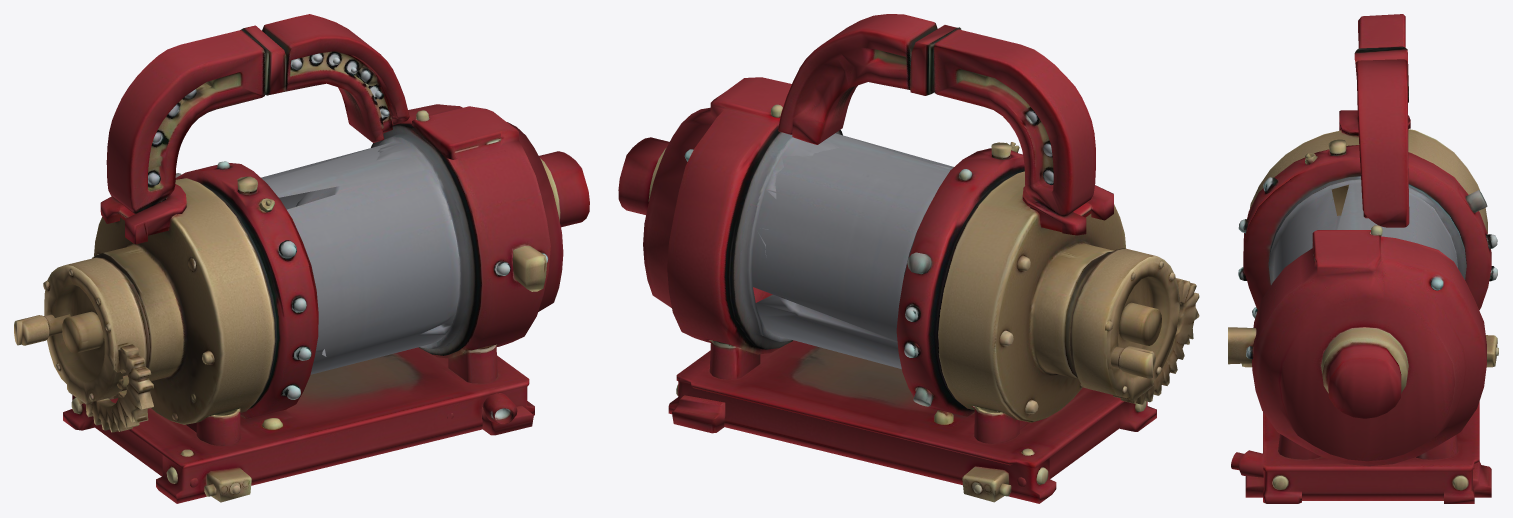
Rendered from magnet-drum.glb.
The picture shows the model from 3 angles, left to right: view 1: azimuth 30°, elevation 25°; view 2: azimuth 150°, elevation 25°; view 3: azimuth 270°, elevation 25°; orthographic projection. The views are drawn at different scales.
Parts seen in each view (by area): view 1: tripo_node_feec837e-4249-4981-b13f-64befcf70d95; view 2: tripo_node_feec837e-4249-4981-b13f-64befcf70d95; view 3: tripo_node_feec837e-4249-4981-b13f-64befcf70d95.
Boxes of the visible parts, x1=… form: tripo_node_feec837e-4249-4981-b13f-64befcf70d95: x1=14, y1=14, x2=589, y2=503; tripo_node_feec837e-4249-4981-b13f-64befcf70d95: x1=618, y1=14, x2=1199, y2=503; tripo_node_feec837e-4249-4981-b13f-64befcf70d95: x1=1228, y1=14, x2=1498, y2=503.
Size of the model in its own units: 0.9995 by 0.6987 by 0.48.
Materials: 1 (1 with a texture image).
